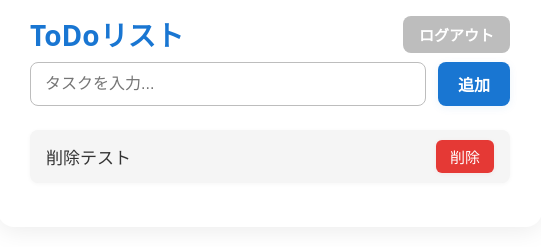
Test: タスク削除ボタンでリストから消える（APIモック）
This screenshot has width=541, height=247.
Expected: the text "削除テスト" is shown, [46,146,131,169]
Click the button "削除" at (465, 156), box [436,140,494,173]
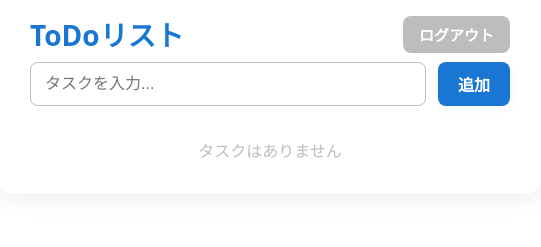
Now the list item "タスクはありません" is shown, box [198,140,342,162]
